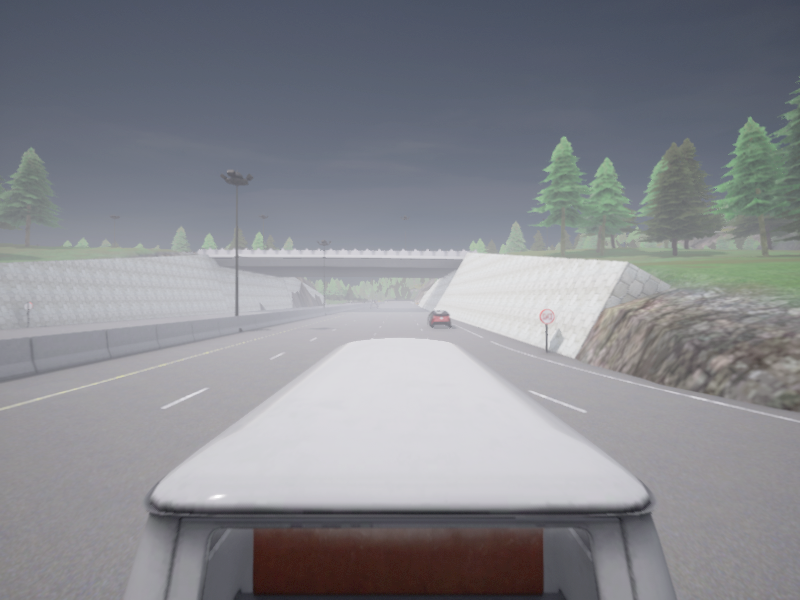vehicle: (124, 337, 676, 599), (427, 310, 450, 327), (370, 303, 378, 308)
